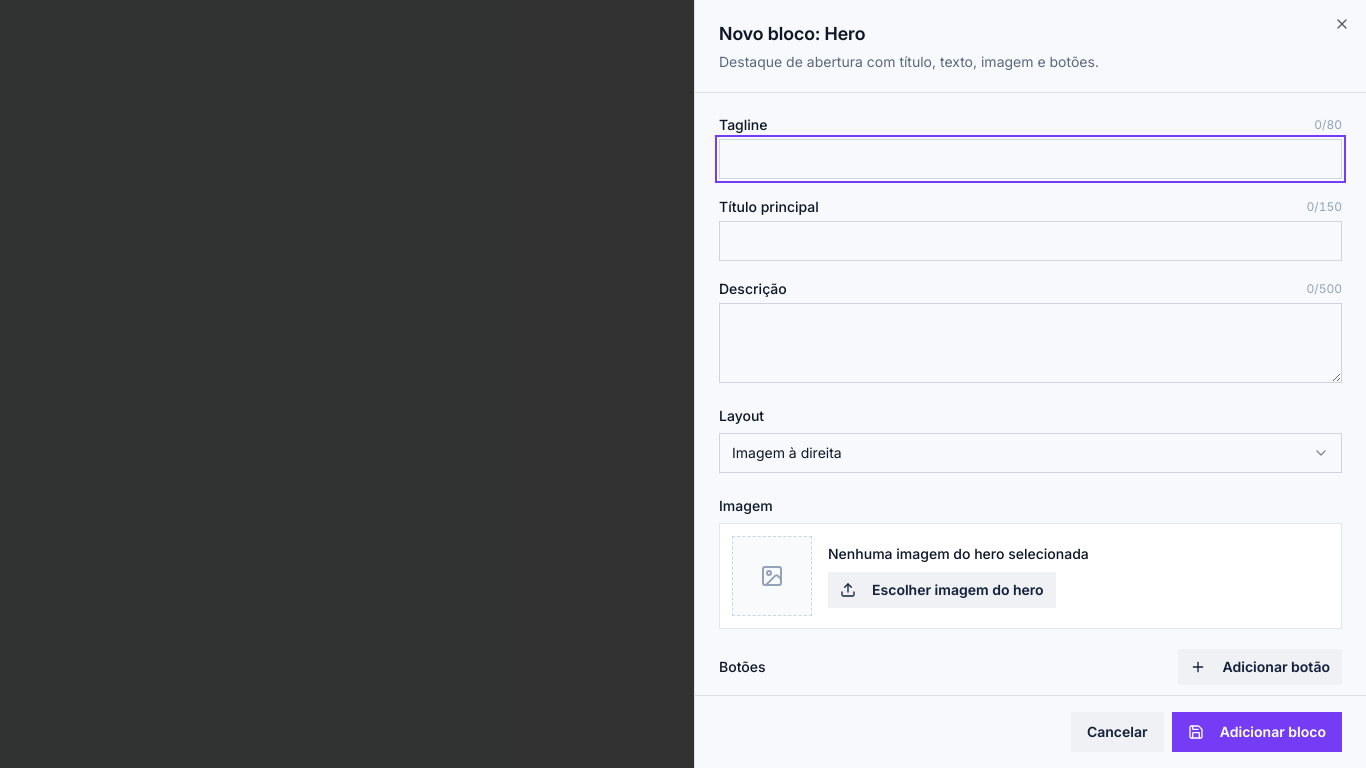
Scenario: BlockFormSheet (hero) › refuses to send a hero without a headline and points at the field
Click the 5th button named "adicionar bloco" at [1257, 732], box [1172,712,1342,752]
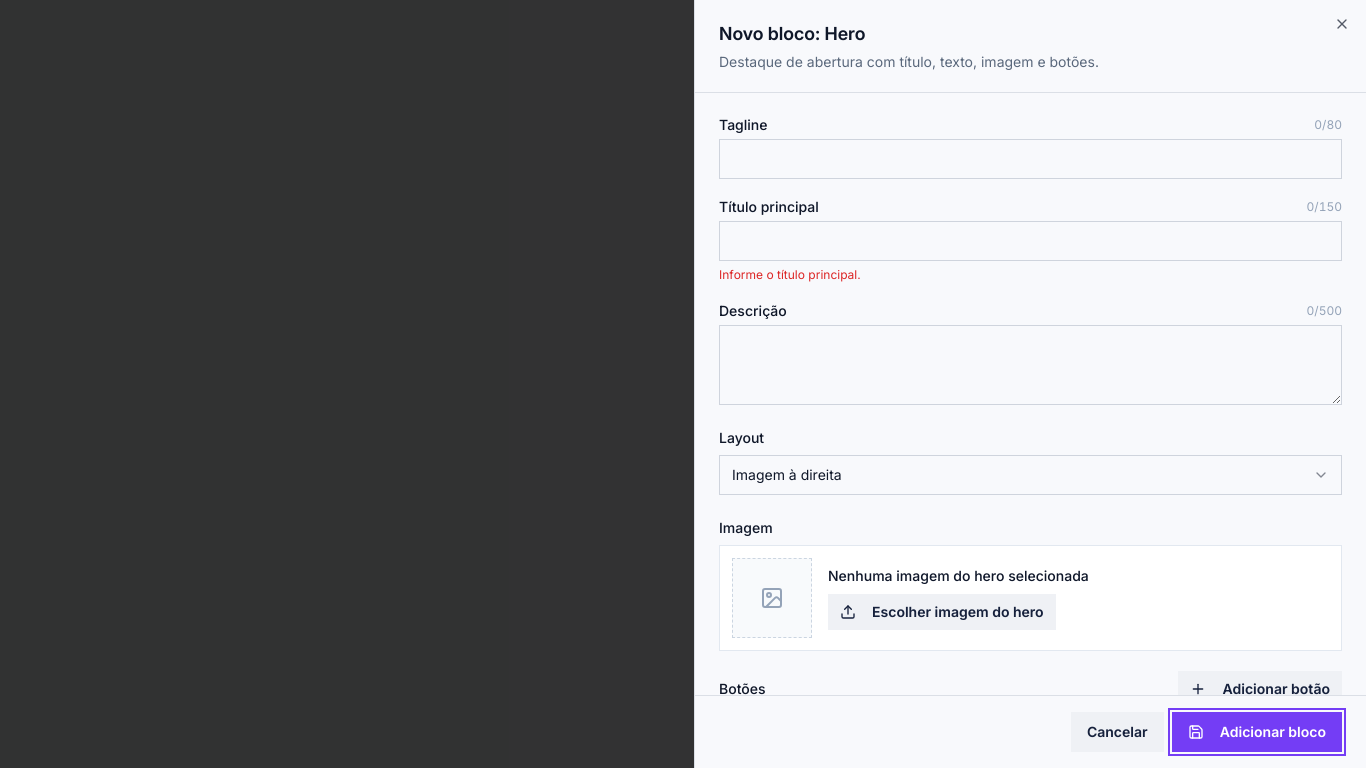
Result: the text "Informe o título principal." is shown at [719,267,861,282]
